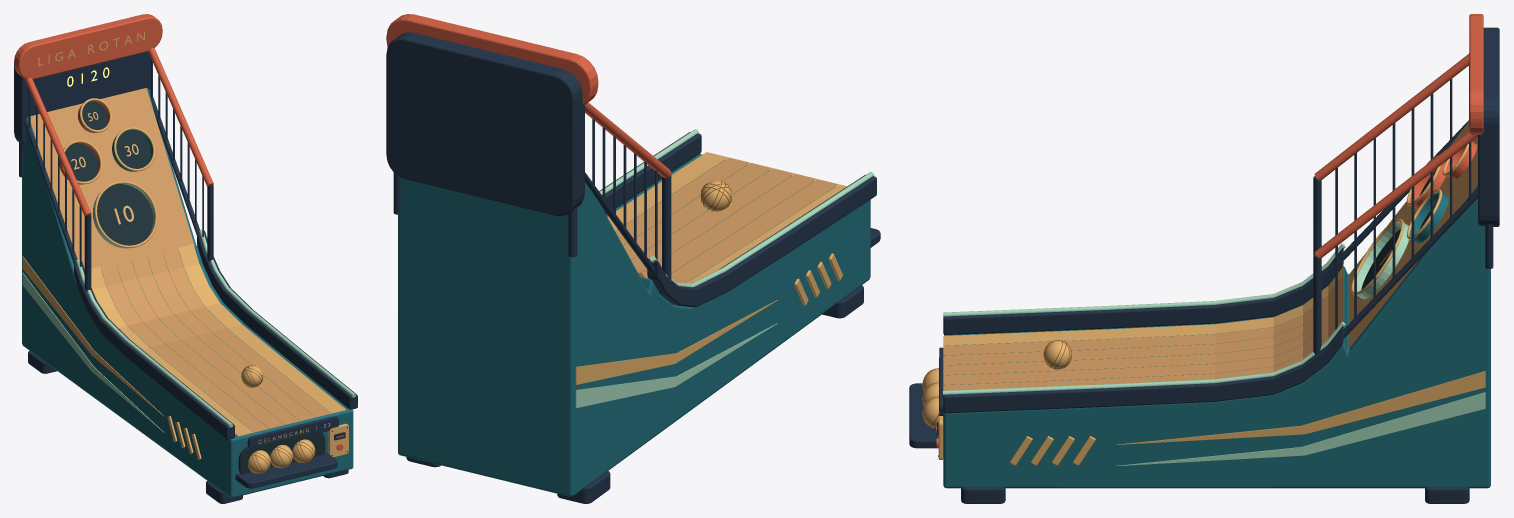
3 renders of one model, left to right at view 1: azimuth 30°, elevation 25°; view 2: azimuth 150°, elevation 25°; view 3: azimuth 270°, elevation 25°, orthographic. The views are drawn at different scales.
Parts seen in each view (by area): view 1: Liga Rotan - Lane, Liga Rotan - Structure, Liga Rotan - Target, Liga Rotan - Graphics, Liga Rotan - Guard, Liga Rotan - Balls; view 2: Liga Rotan - Structure, Liga Rotan - Graphics, Liga Rotan - Lane, Liga Rotan - Guard, Liga Rotan - Balls; view 3: Liga Rotan - Structure, Liga Rotan - Lane, Liga Rotan - Graphics, Liga Rotan - Guard, Liga Rotan - Target, Liga Rotan - Balls.
Boxes of the visible parts, x1=… form: Liga Rotan - Lane: x1=74, y1=229, x2=357, y2=459; Liga Rotan - Structure: x1=22, y1=88, x2=353, y2=503; Liga Rotan - Target: x1=30, y1=88, x2=194, y2=268; Liga Rotan - Graphics: x1=14, y1=14, x2=348, y2=474; Liga Rotan - Guard: x1=19, y1=48, x2=213, y2=291; Liga Rotan - Balls: x1=241, y1=365, x2=315, y2=473; Liga Rotan - Structure: x1=398, y1=154, x2=880, y2=503; Liga Rotan - Graphics: x1=386, y1=14, x2=835, y2=407; Liga Rotan - Lane: x1=599, y1=129, x2=876, y2=307; Liga Rotan - Guard: x1=393, y1=102, x2=671, y2=279; Liga Rotan - Balls: x1=700, y1=180, x2=731, y2=211; Liga Rotan - Structure: x1=909, y1=185, x2=1490, y2=503; Liga Rotan - Lane: x1=943, y1=243, x2=1345, y2=465; Liga Rotan - Graphics: x1=936, y1=14, x2=1499, y2=465; Liga Rotan - Guard: x1=1313, y1=53, x2=1493, y2=354; Liga Rotan - Target: x1=1348, y1=121, x2=1477, y2=349; Liga Rotan - Balls: x1=922, y1=340, x2=1072, y2=428.
Size of the model in its own units: 1.19 by 2.48 by 3.23.
